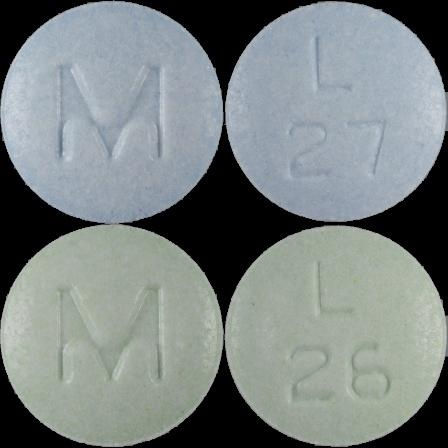60429-211: (0, 0, 224, 224)
